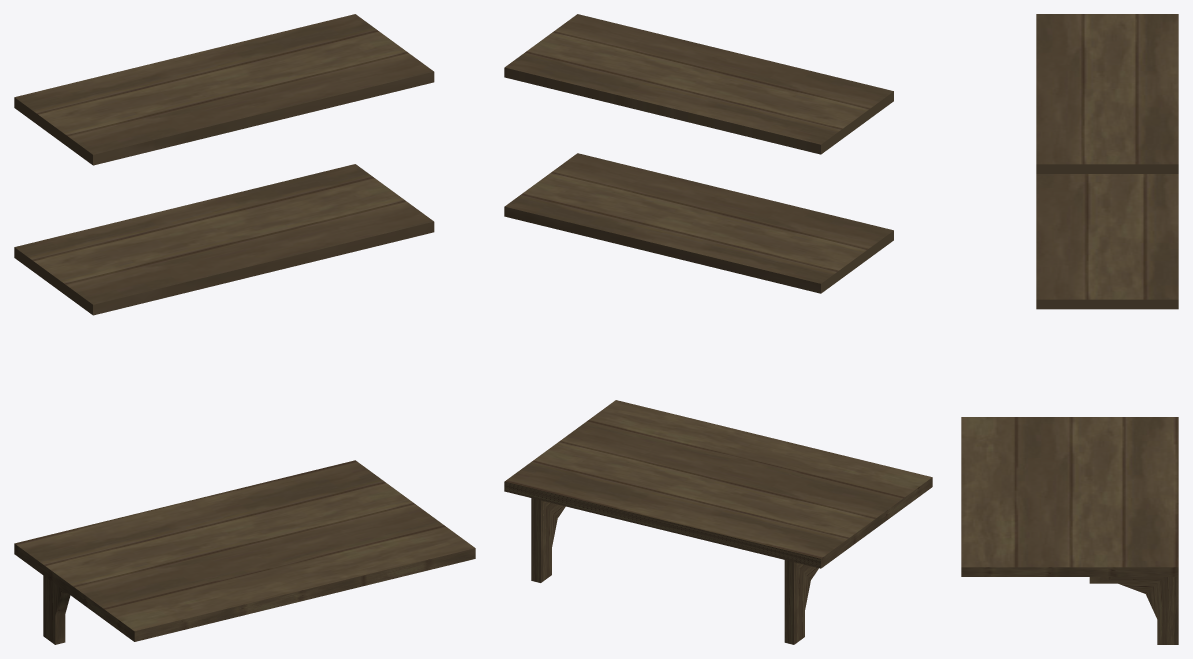
Rendered from shelf02.glb.
The picture shows the model from 3 angles, left to right: view 1: azimuth 30°, elevation 25°; view 2: azimuth 150°, elevation 25°; view 3: azimuth 270°, elevation 25°; orthographic projection. The views are drawn at different scales.
Visible parts, largest first — view 1: shelf02; view 2: shelf02; view 3: shelf02.
Boxes of the visible parts, left/top/right/bottom form: shelf02: left=14, top=14, right=475, bottom=644; shelf02: left=504, top=14, right=932, bottom=644; shelf02: left=961, top=14, right=1178, bottom=644.
Size of the model in its own units: 1 by 1.53 by 0.61.
1 material, 1 textured.
